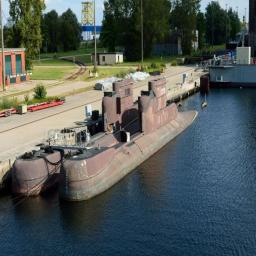submarine: (61, 79, 200, 204), (15, 76, 139, 193)
